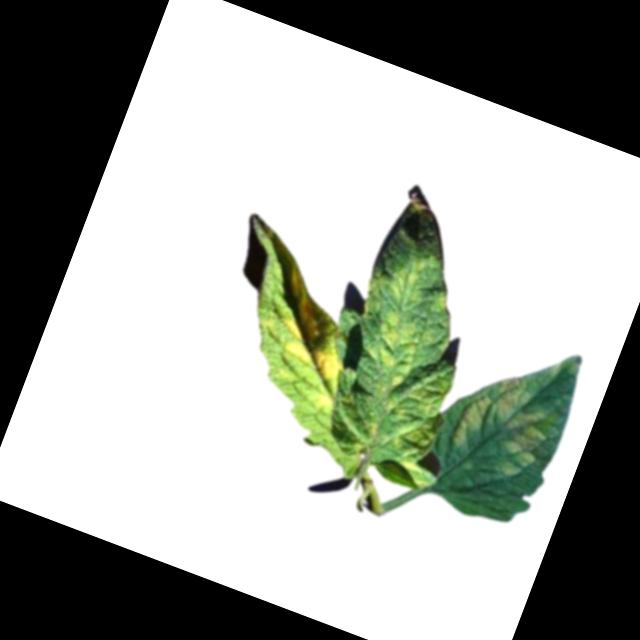Leaf_Mold: (444, 362, 569, 492), (354, 247, 454, 393), (259, 262, 371, 386), (368, 356, 461, 470), (310, 388, 337, 413)
